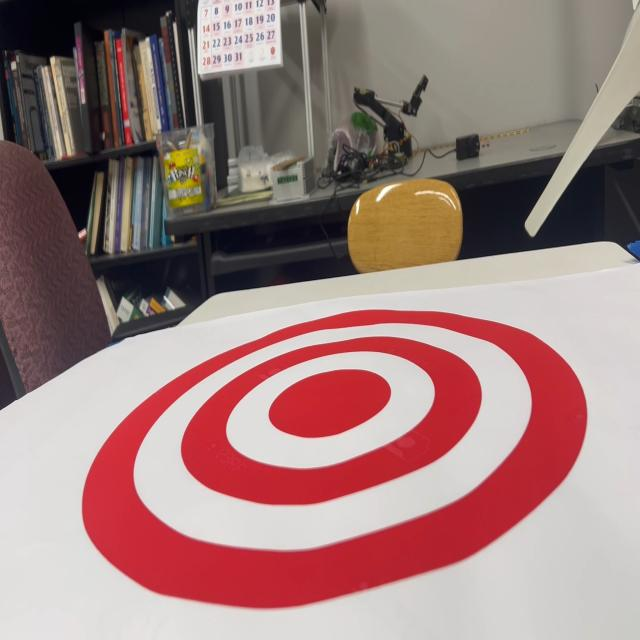target_red: (73, 306, 600, 634)
